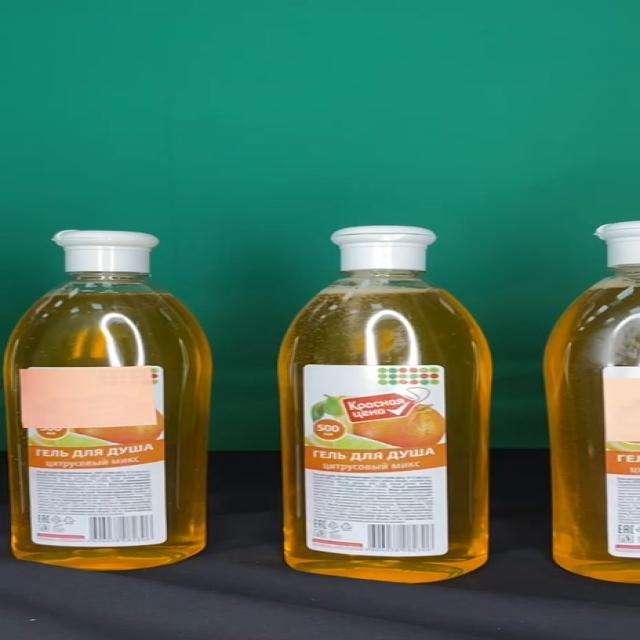Bottle: (278, 225, 496, 584), (3, 229, 214, 570)
Cap: (54, 230, 159, 273), (331, 226, 435, 269)
